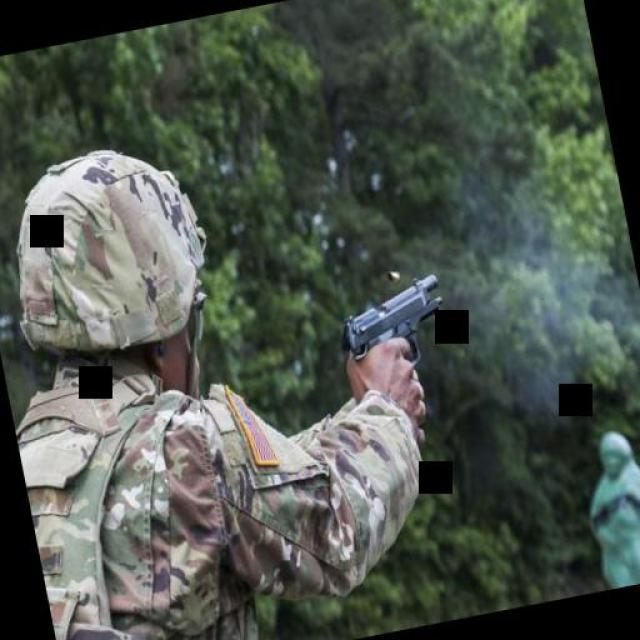gun: (328, 265, 458, 394)
